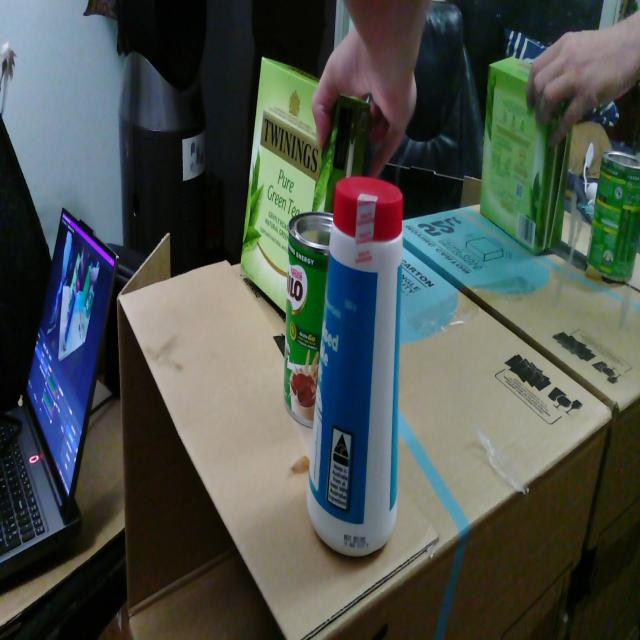nestle_milo_tin: (283, 211, 333, 427)
twinings_greentea_box: (241, 57, 371, 313)
woolworths_salt_bottle: (307, 177, 402, 556)
